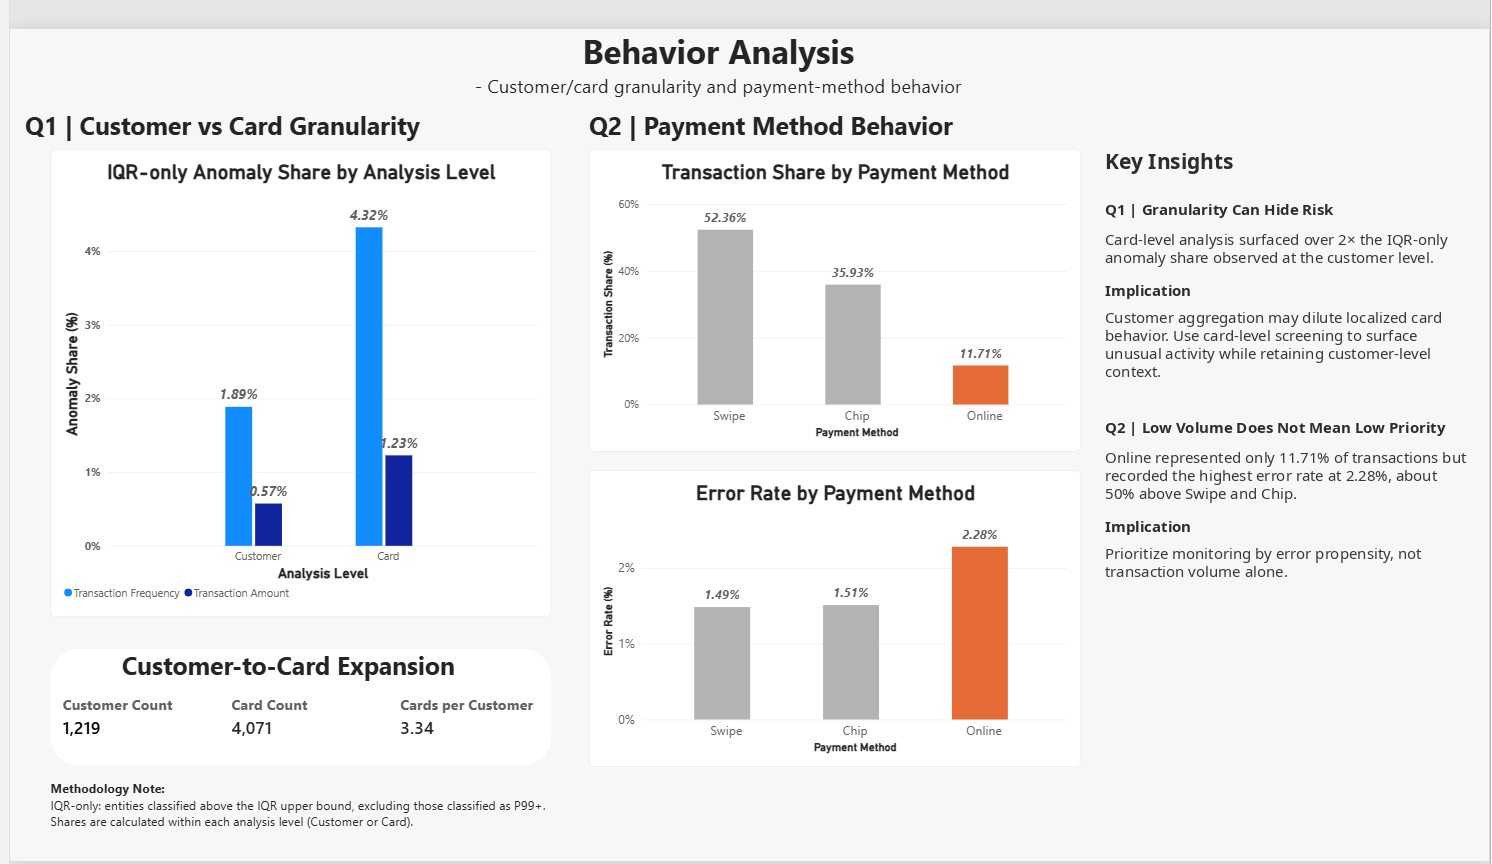

This screenshot's page, from the dashboard's own definition file:
{"tool":"powerbi","page":{"name":"02 Behavior Analysis","canvas":[1920,1080],"ordinal":1},"visuals":[{"type":"textbox","box":[481.7,0,876.7,113.3],"z":0},{"type":"clusteredColumnChart","title":"IQR-only Anomaly Share by Analysis Level","fields":{"Category":["Q1 Behavior Summary.analysis_level"],"Y":["Dax_Measures.Q1 Frequency IQR Anomaly Share","Dax_Measures.Q1 Amount IQR Anomaly Share"]},"box":[52.6,155.7,650.2,607.3],"z":1000},{"type":"textbox","box":[53,964,650,70],"z":2000},{"type":"clusteredColumnChart","title":"Transaction Share by Payment Method","fields":{"Category":["Q2 Payment Method.Payment Method Label"],"Y":["Dax_Measures.Q2 Transaction Share"]},"box":[751.5,155,638.8,393],"z":3000},{"type":"textbox","box":[25.7,104.2,525,51.7],"z":4000},{"type":"textbox","box":[723.6,102.8,473.3,51.7],"z":5000},{"type":"textbox","box":[1405.8,104.2,473,51.7],"z":5500},{"type":"clusteredColumnChart","title":"Error Rate by Payment Method","fields":{"Category":["Q2 Payment Method.Payment Method Label"],"Y":["Dax_Measures.Q2 Error Rate"]},"box":[751.5,571.5,638.8,385.1],"z":6000},{"type":"shape","box":[1424.9,155,473,802],"z":6500},{"type":"textbox","box":[1458,186,405,300],"z":7000},{"type":"textbox","box":[1458,558,405,275],"z":7100},{"type":"shape","box":[1441,188,5,278],"z":7200},{"type":"shape","box":[1441,560,5,253],"z":7300},{"type":"shape","box":[52.6,798,650.2,154],"z":8000},{"type":"cardVisual","fields":{"Data":["Dax_Measures.Q1 Customer Count","Dax_Measures.Q1 Card Count","Dax_Measures.Q1 Card-to-Customer Ratio"]},"box":[62,842,631,96],"z":9000},{"type":"textbox","box":[120,805,515,40],"z":10000}]}

Visuals, with their boxes in screenshot pixels (x1, y1, x2, y2), scaled from the page's 1920x1080 canvas onto the 1492x864 screenshot:
textbox: <region>374, 0, 1056, 91</region>
"IQR-only Anomaly Share by Analysis Level" clusteredColumnChart: <region>41, 125, 546, 610</region>
textbox: <region>41, 771, 546, 827</region>
"Transaction Share by Payment Method" clusteredColumnChart: <region>584, 124, 1080, 438</region>
textbox: <region>20, 83, 428, 125</region>
textbox: <region>562, 82, 930, 124</region>
textbox: <region>1092, 83, 1460, 125</region>
"Error Rate by Payment Method" clusteredColumnChart: <region>584, 457, 1080, 765</region>
shape: <region>1107, 124, 1475, 766</region>
textbox: <region>1133, 149, 1448, 389</region>
textbox: <region>1133, 446, 1448, 666</region>
shape: <region>1120, 150, 1124, 373</region>
shape: <region>1120, 448, 1124, 650</region>
shape: <region>41, 638, 546, 762</region>
cardVisual - Dax_Measures.Q1 Customer Count x Dax_Measures.Q1 Card Count: <region>48, 674, 539, 750</region>
textbox: <region>93, 644, 493, 676</region>
